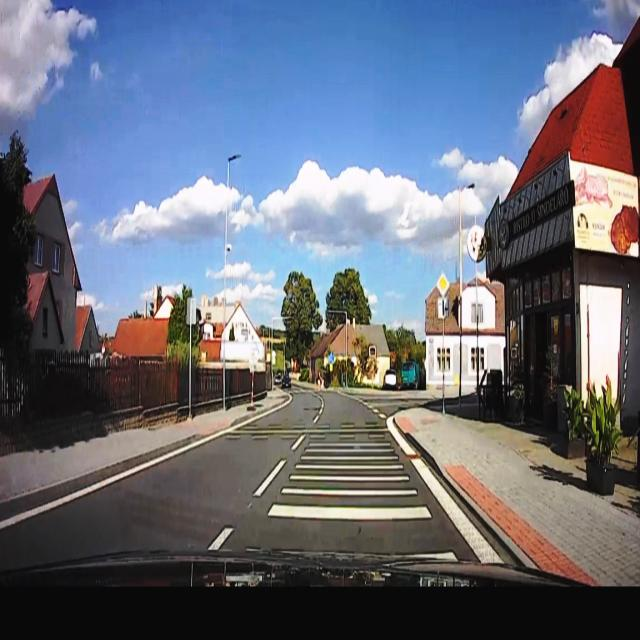Priority road: (435, 268, 452, 300)
